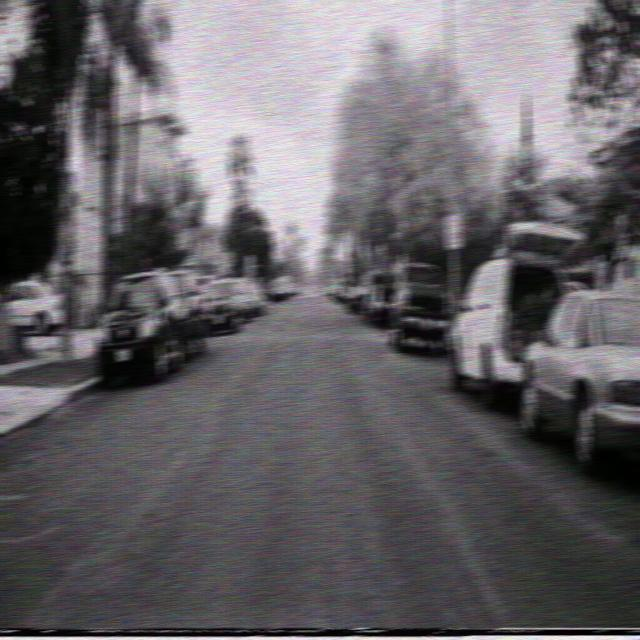speedLimit25: (444, 212, 463, 250)
